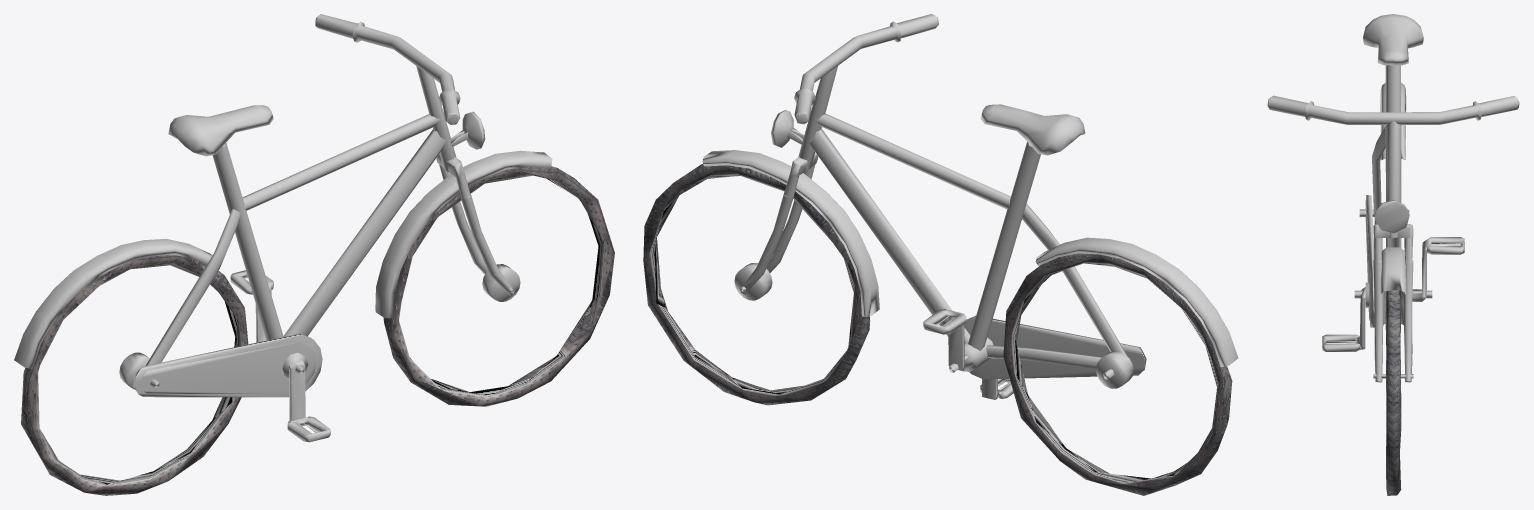
Rendered from c2_bicycle_lod1.fbx.
The picture shows the model from 3 angles, left to right: view 1: azimuth 30°, elevation 25°; view 2: azimuth 150°, elevation 25°; view 3: azimuth 270°, elevation 25°; orthographic projection. The views are drawn at different scales.
Visible parts, largest first — view 1: frame; view 2: frame; view 3: frame.
Part boxes in pixels (x1,y1,x2,y2): frame: (14, 14, 614, 495); frame: (643, 14, 1238, 495); frame: (1267, 14, 1519, 495).
Bounding box in the file's own units: 173 × 104 × 69.47.
